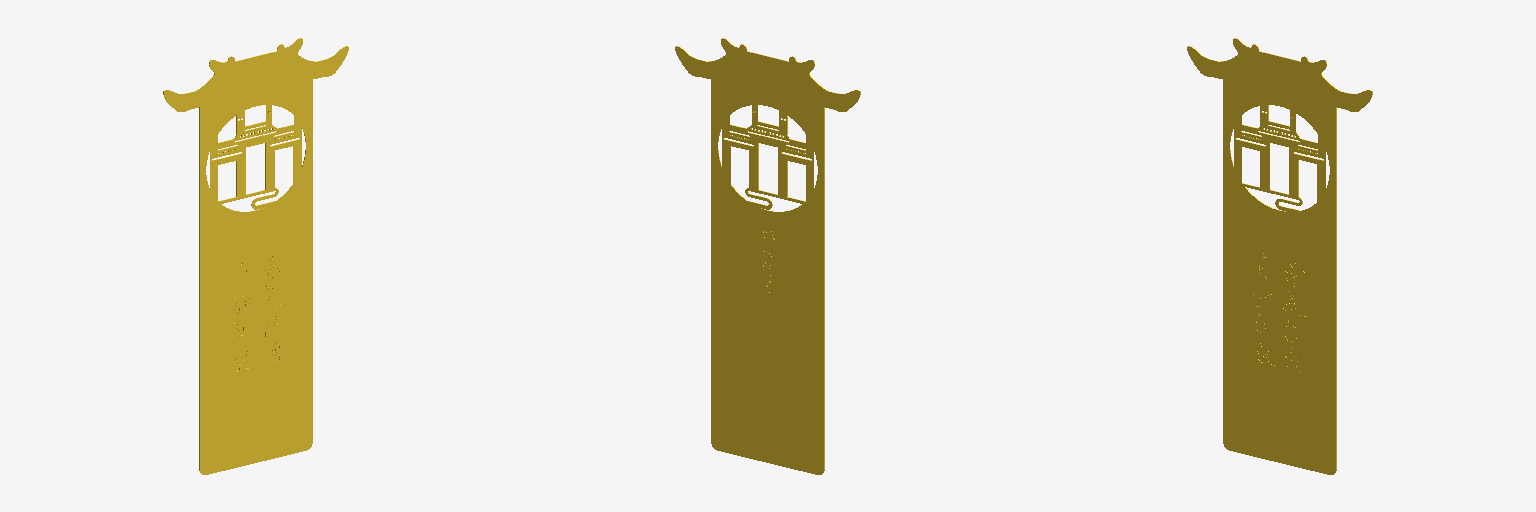
3 views of the same model, side by side, from view 1: azimuth 30°, elevation 25°; view 2: azimuth 150°, elevation 25°; view 3: azimuth 330°, elevation 25° (orthographic).
Parts seen in each view (by area): view 1: 实体2; view 2: 实体2; view 3: 实体2.
Part boxes in pixels (bbox=[...]): 实体2: bbox=[163, 38, 348, 474]; 实体2: bbox=[675, 38, 860, 474]; 实体2: bbox=[1187, 38, 1372, 474].
Bounding box in the file's own units: 61.66 × 132 × 0.3.